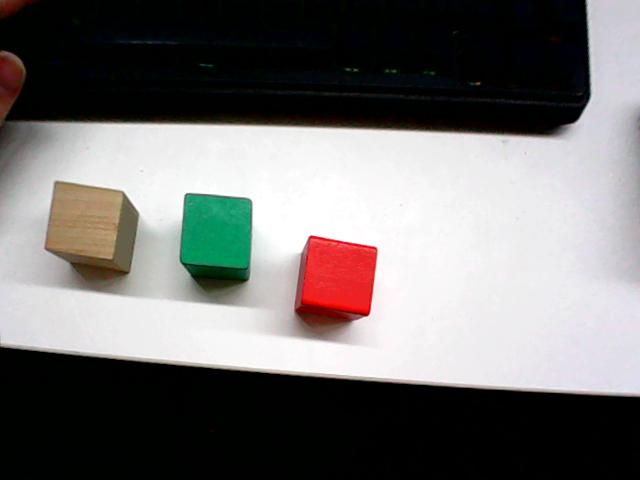green_box: (177, 188, 255, 284)
raw_box: (42, 176, 141, 276)
red_box: (291, 230, 381, 324)
